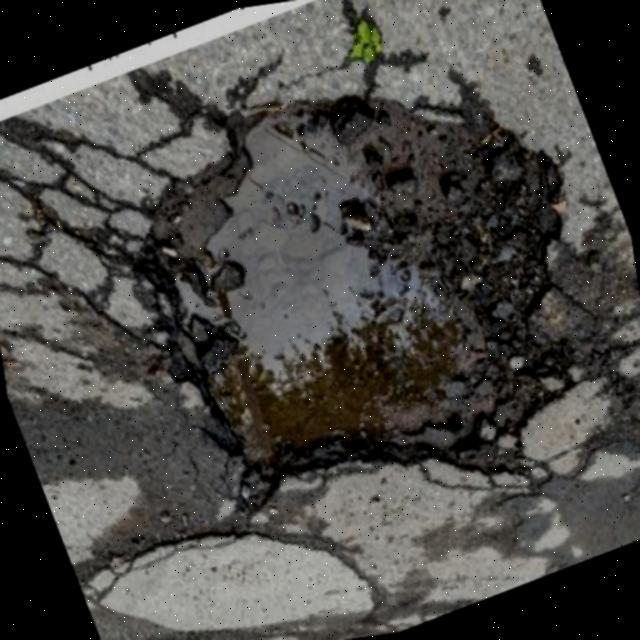Pothole: (151, 69, 568, 500)
